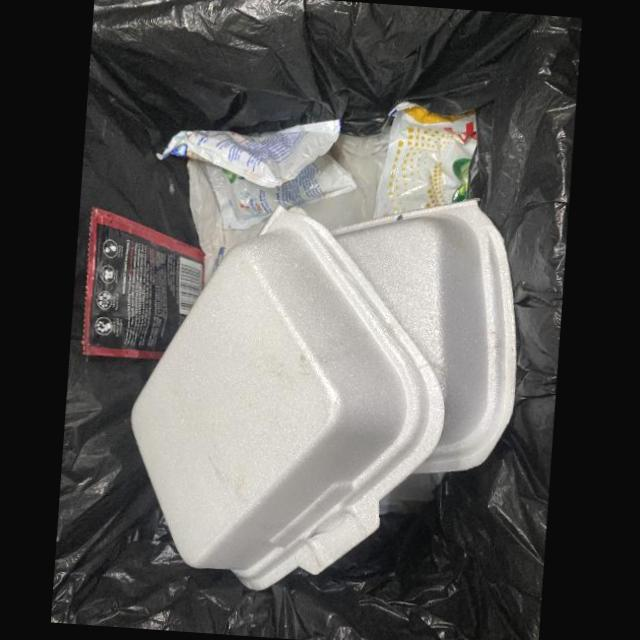goi_nhua_nho: (160, 118, 357, 229), (81, 205, 205, 359), (373, 101, 478, 220)
xop: (129, 203, 445, 589), (332, 197, 516, 473)
